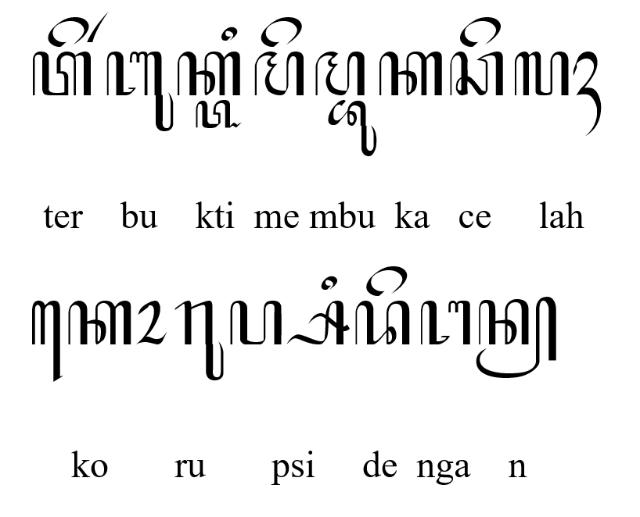-n: (475, 297, 557, 380)
_bu: (326, 99, 378, 157)
_h1: (573, 51, 603, 137)
_r1: (86, 11, 110, 43)
_s: (286, 299, 352, 346)
_t: (194, 100, 242, 130)
bu: (106, 51, 174, 133)
c: (449, 50, 505, 96)
d: (354, 300, 410, 346)
e: (260, 14, 302, 48), (46, 16, 90, 48), (459, 16, 501, 48), (366, 265, 408, 297)
e1: (32, 301, 62, 383)
i: (221, 26, 239, 42), (320, 276, 338, 290)
k: (378, 50, 444, 98), (177, 49, 241, 96), (68, 300, 132, 346)
l: (514, 49, 570, 96)
m: (314, 50, 366, 98), (253, 50, 304, 98)
nga: (421, 300, 472, 346)
o: (136, 302, 168, 346)
p: (230, 300, 282, 346)
ru: (174, 300, 224, 382)
t: (32, 51, 92, 97)
